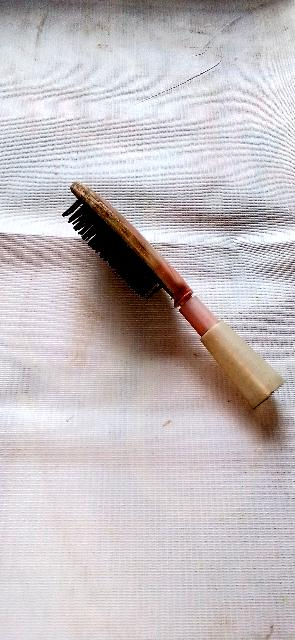hardplastic: (56, 159, 280, 419)
